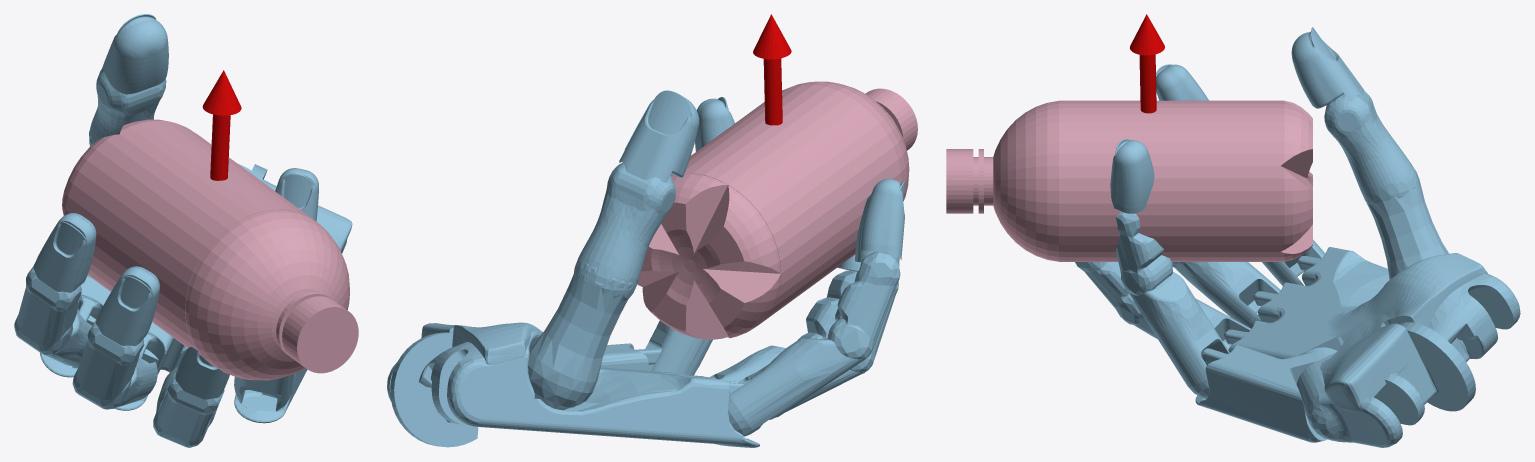
3 views of the same model, side by side, from view 1: azimuth 30°, elevation 25°; view 2: azimuth 150°, elevation 25°; view 3: azimuth 270°, elevation 25° (orthographic). The views are drawn at different scales.
Visible parts, largest first — view 1: water_bottle.stl, world; view 2: world, water_bottle.stl; view 3: world, water_bottle.stl.
Part boxes in pixels (x1=…): water_bottle.stl: x1=62, y1=119, x2=358, y2=380; world: x1=14, y1=14, x2=352, y2=447; world: x1=387, y1=14, x2=904, y2=447; water_bottle.stl: x1=637, y1=81, x2=917, y2=339; world: x1=1075, y1=14, x2=1520, y2=447; water_bottle.stl: x1=946, y1=100, x2=1312, y2=261.
Bounding box in the file's own units: 0.1618 × 0.1486 × 0.2139.
